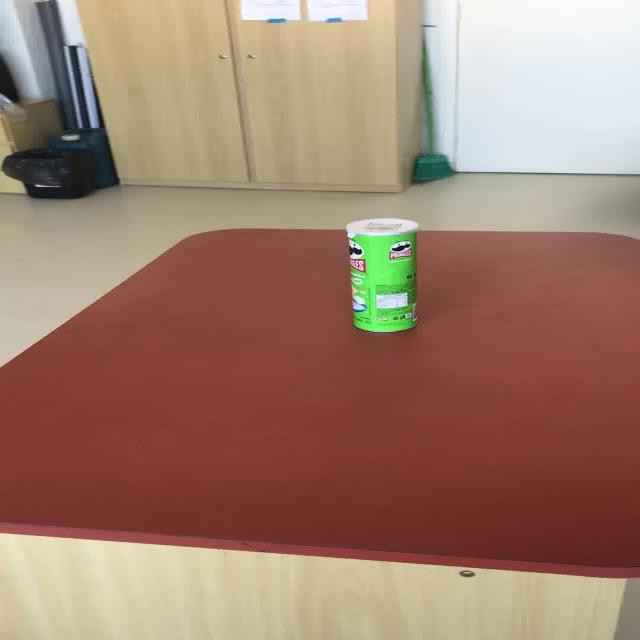pringles: (344, 216, 418, 332)
